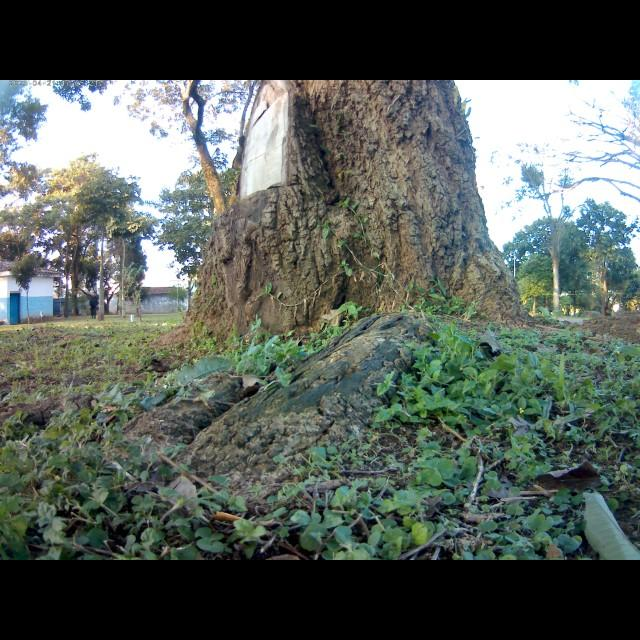arvore: (130, 81, 541, 505)
